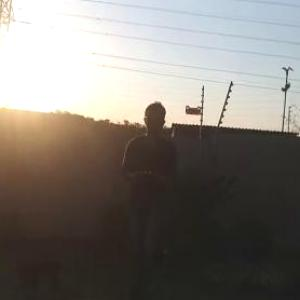follow: (115, 96, 184, 299)
